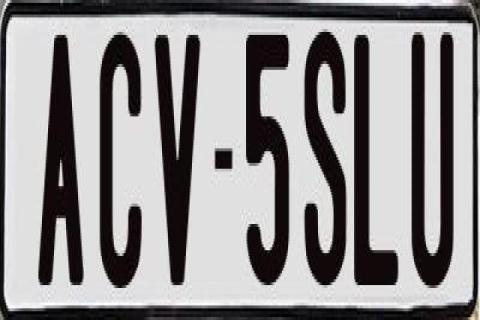0: (244, 32, 288, 285)
A: (38, 32, 84, 285)
C: (98, 26, 146, 294)
L: (354, 35, 404, 285)
S: (302, 29, 352, 282)
U: (408, 26, 452, 294)
V: (152, 32, 199, 285)
